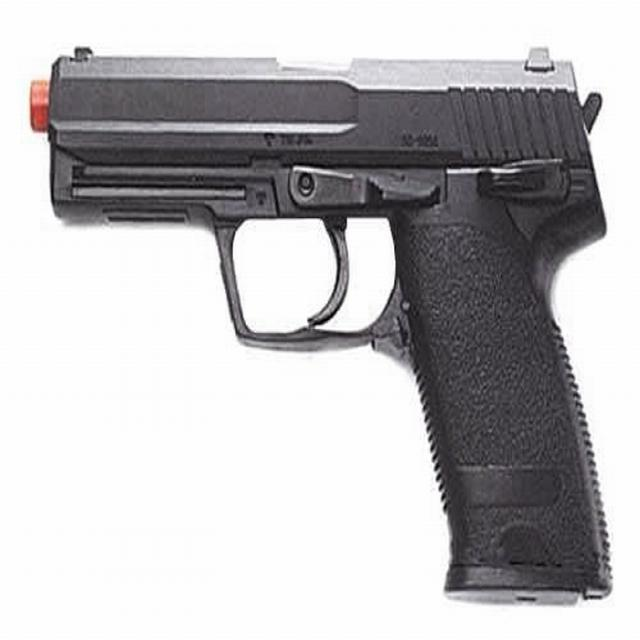Pistol: (13, 27, 630, 628)
